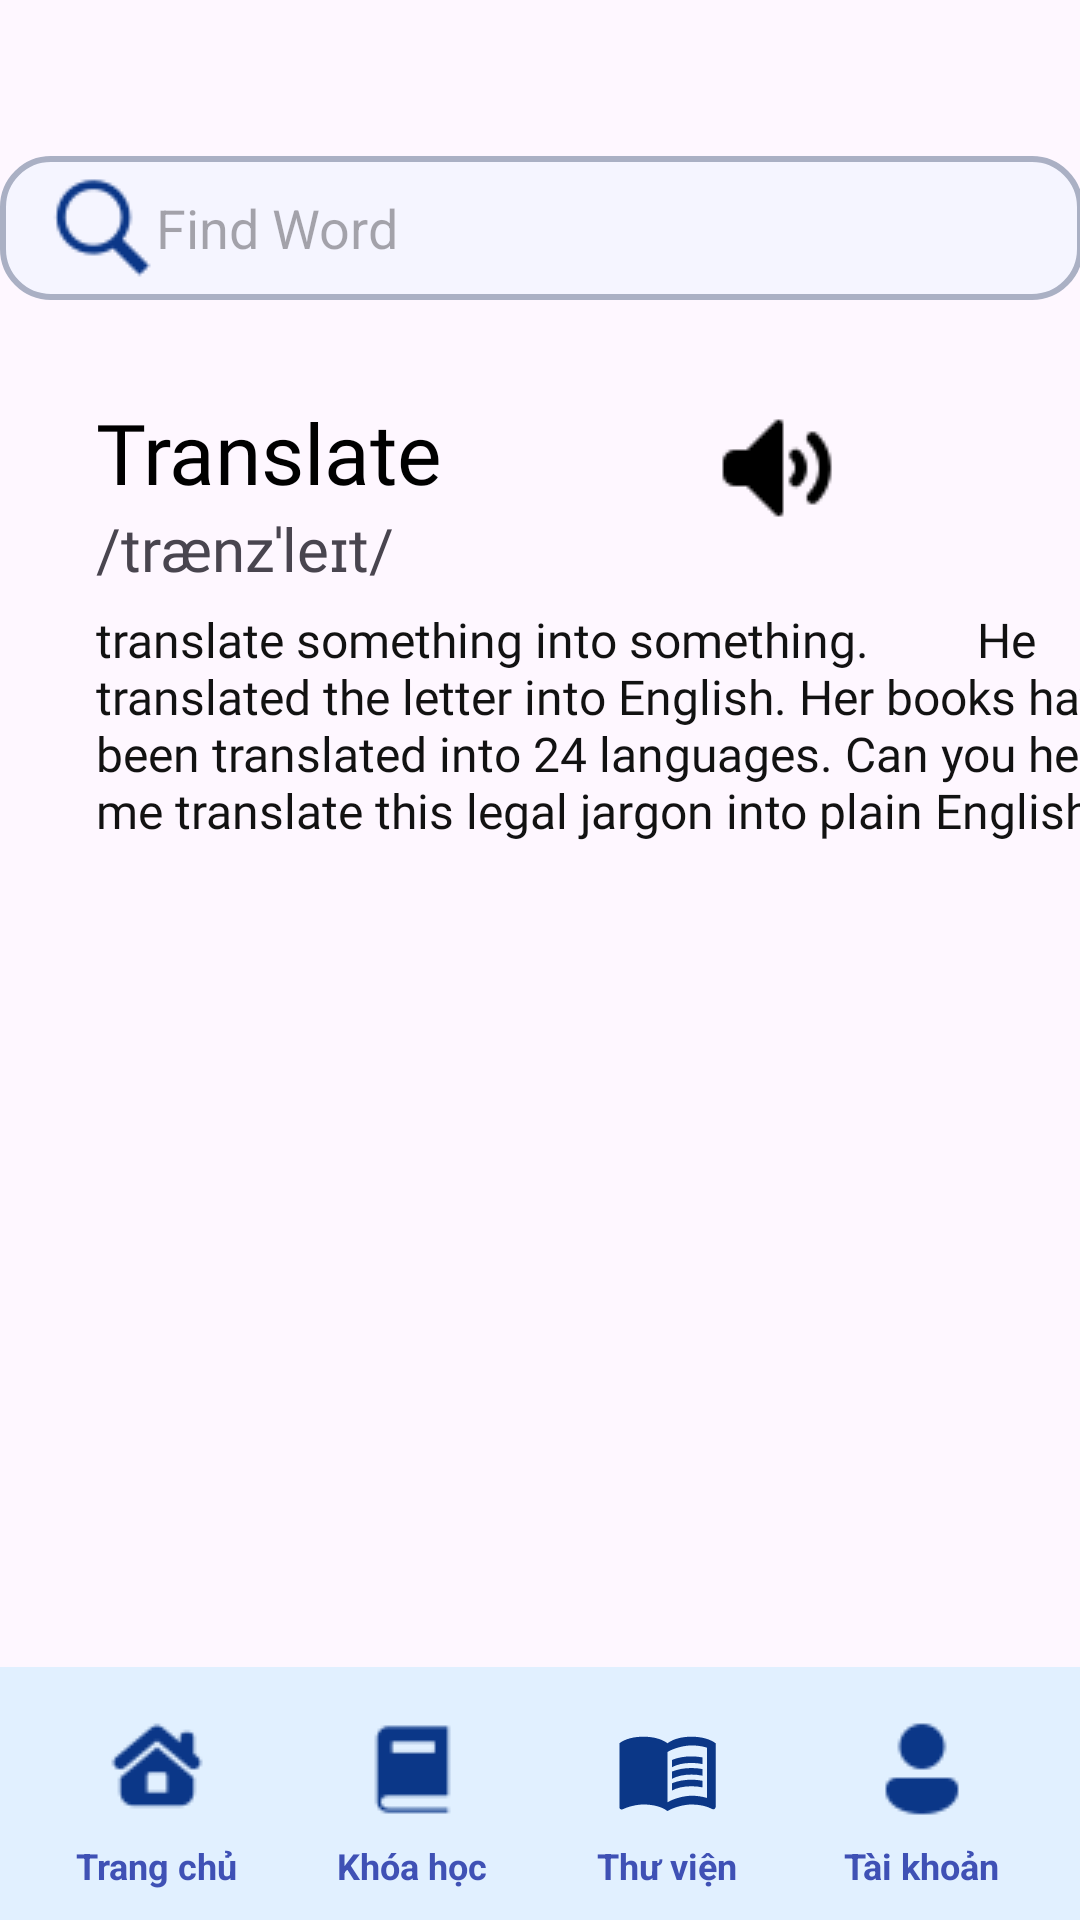

Screen size 1080 x 1920. Icon name, then its center in pixels as point (x, y):
Open Volume: point (777, 468)
